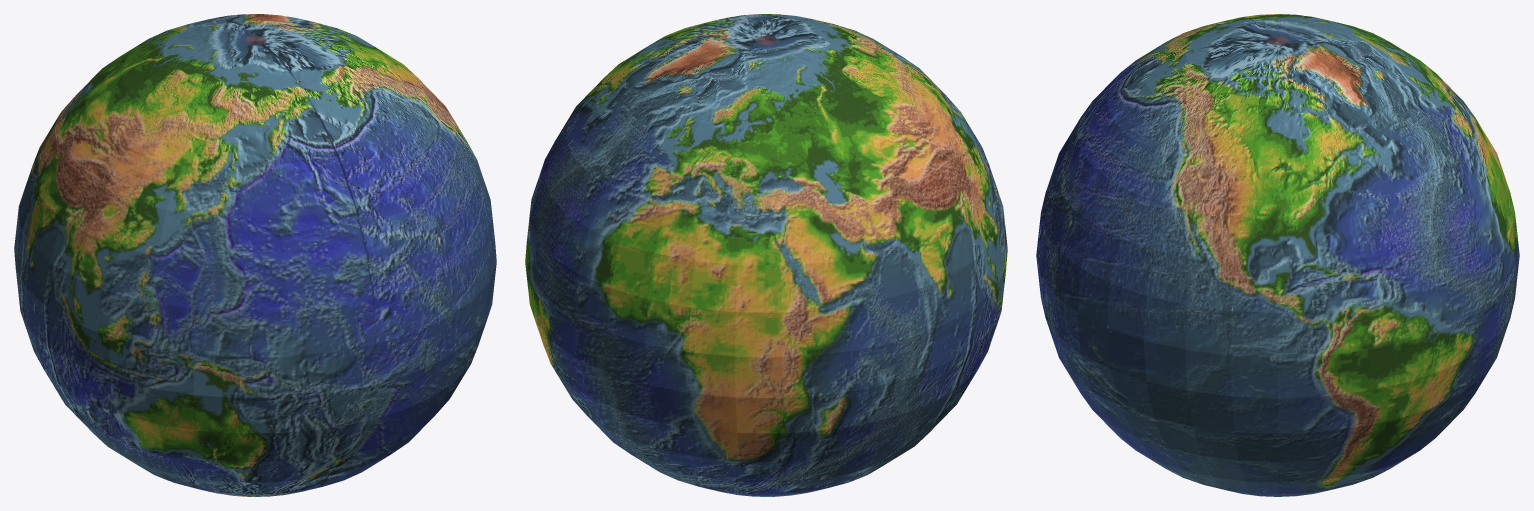
Rendered from Earth.obj.
3 renders of one model, left to right at view 1: azimuth 30°, elevation 25°; view 2: azimuth 150°, elevation 25°; view 3: azimuth 270°, elevation 25°, orthographic.
Parts seen in each view (by area): view 1: Sphere; view 2: Sphere; view 3: Sphere.
Part boxes in pixels (<box>): Sphere: <box>14,14,496,496</box>; Sphere: <box>525,14,1007,496</box>; Sphere: <box>1036,14,1519,496</box>.
Size of the model in its own units: 2.6 by 2.55 by 2.6.
1 material, 1 textured.
